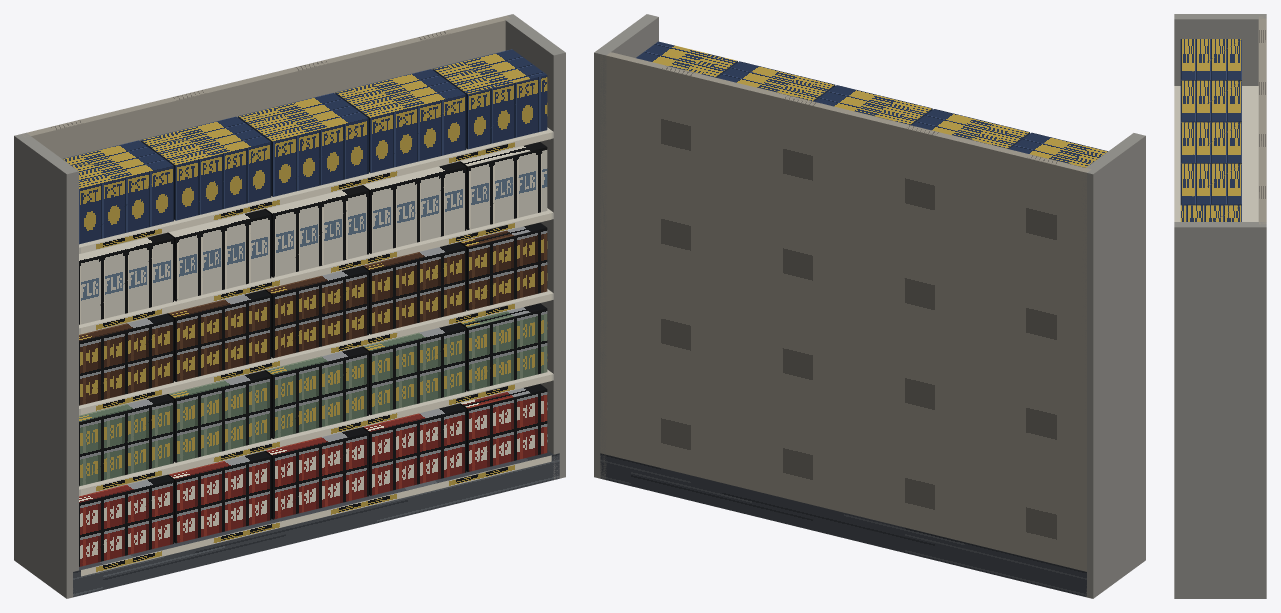
The model's file is COM_WallShelf_Grocery.glb.
The picture shows the model from 3 angles, left to right: view 1: azimuth 30°, elevation 25°; view 2: azimuth 150°, elevation 25°; view 3: azimuth 270°, elevation 25°; orthographic projection. The views are drawn at different scales.
Parts seen in each view (by area): view 1: COM_WallShelf_Grocery_Mesh; view 2: COM_WallShelf_Grocery_Mesh; view 3: COM_WallShelf_Grocery_Mesh.
Part boxes in pixels (x1,y1,x2,y2): COM_WallShelf_Grocery_Mesh: [14, 14, 565, 598]; COM_WallShelf_Grocery_Mesh: [594, 14, 1145, 598]; COM_WallShelf_Grocery_Mesh: [1174, 14, 1266, 598].
Size of what is drawn, in the model's own units: 2.46 by 2 by 0.451.
1 material, 1 textured.
